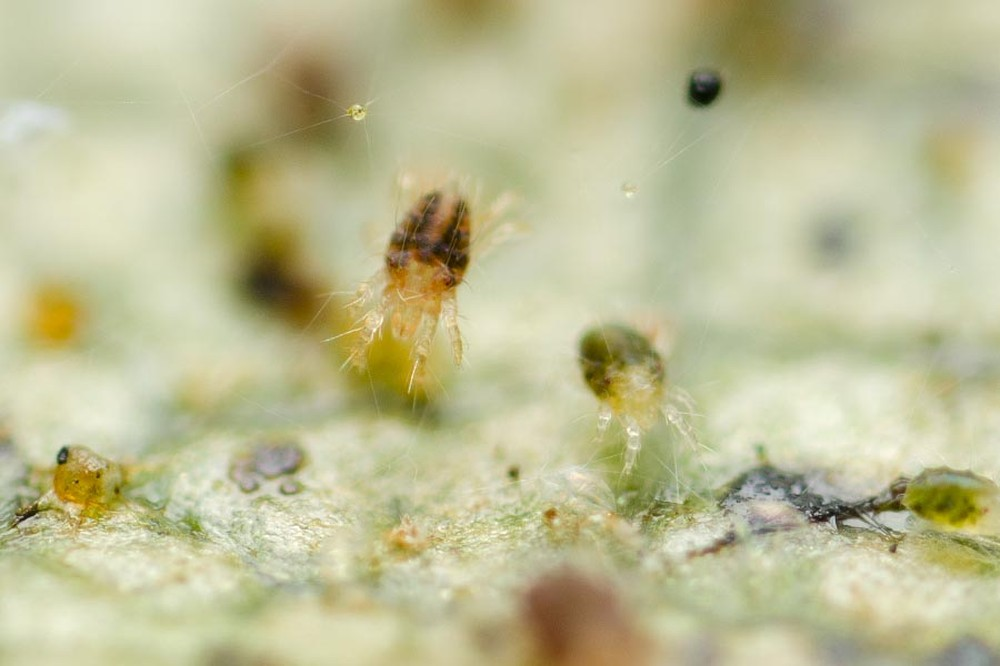Aracnido Rojo: (320, 135, 531, 414), (561, 302, 733, 496), (880, 448, 1000, 543)
